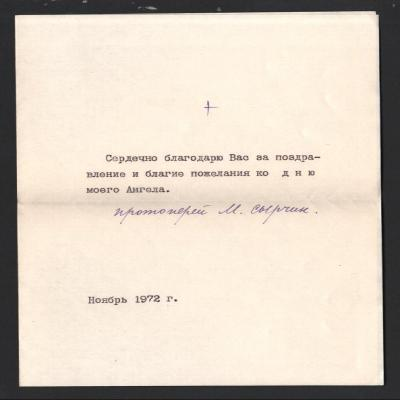document: (14, 10, 385, 388)
